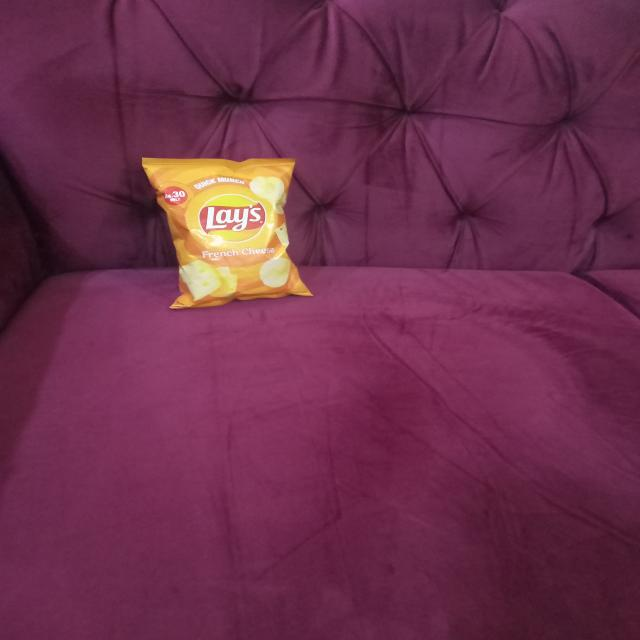Plastic: (134, 156, 316, 312)
